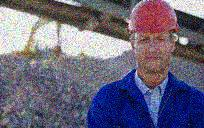helmet: (124, 1, 183, 73)
